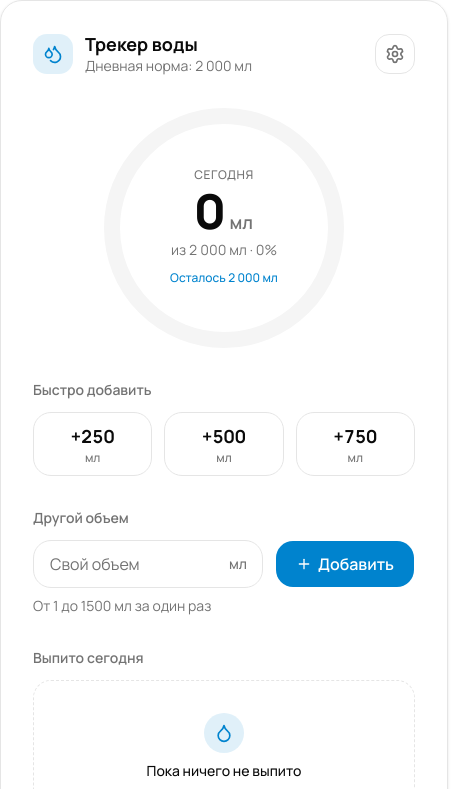
Test: WaterTracker: ошибка сервера › показывает сообщение об ошибке и разрешает повторную попытку
The width and height of the screenshot is (465, 789).
In the field with placeholder "Свой объем": (148,564) x1=33 y1=540 x2=263 y2=588, type "250"
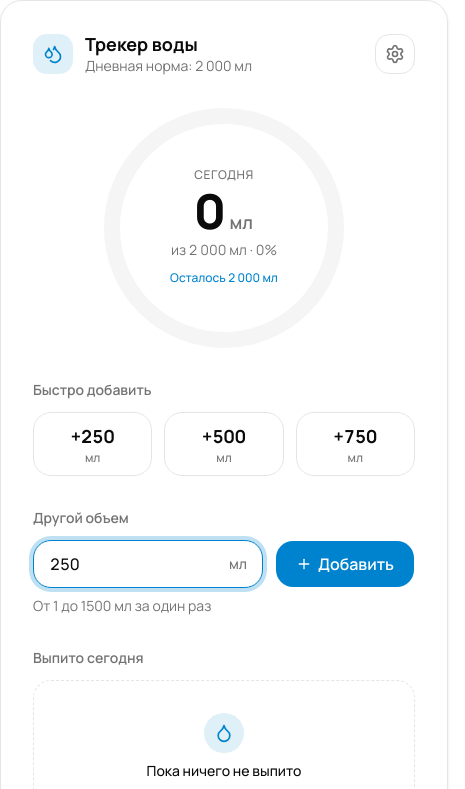
Click the button "Добавить": (345,564) x1=275 y1=540 x2=415 y2=588
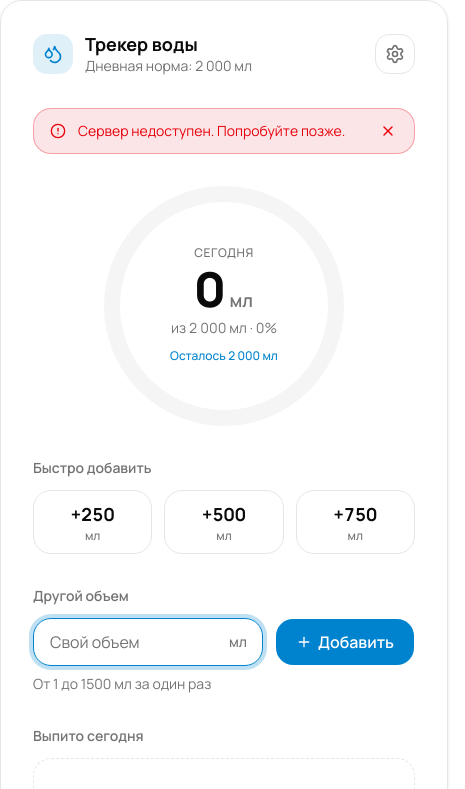
Expected: the button "Добавить" is enabled, x1=275 y1=618 x2=415 y2=666
Expected: the message reads "Сервер недоступен. Попробуйте позже.", x1=78 y1=120 x2=345 y2=140
In the field with placeholder "Свой объем": (148,642) x1=33 y1=618 x2=263 y2=666, type "250"
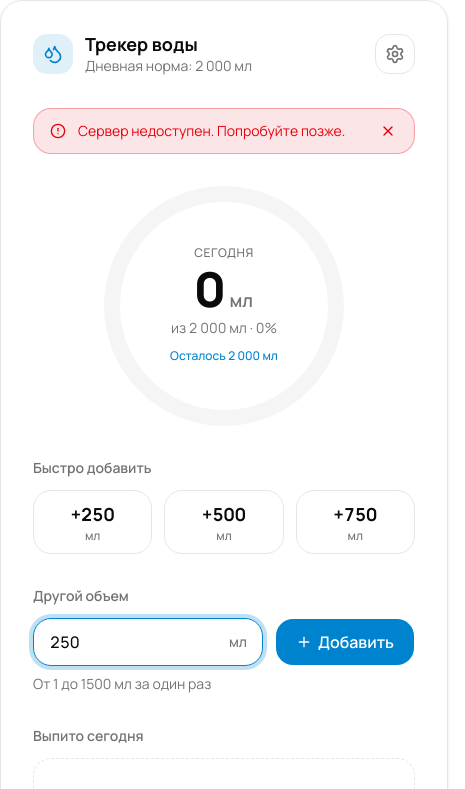
Click the button "Добавить": (345,642) x1=275 y1=618 x2=415 y2=666
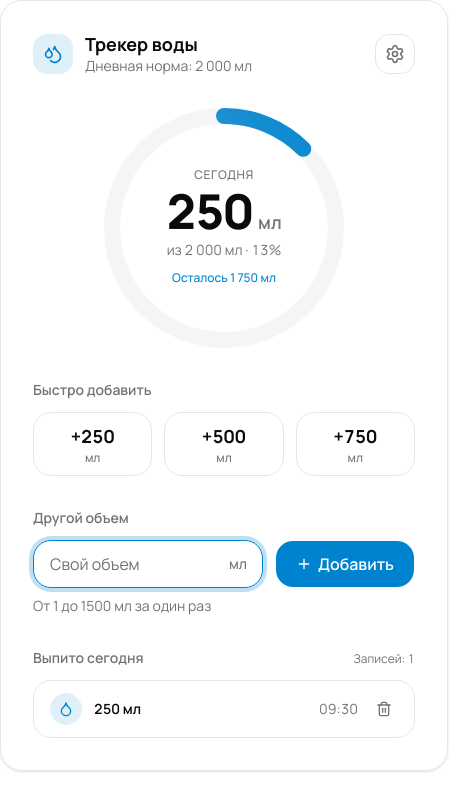
Expected: the text "250 мл" is shown, x1=94 y1=698 x2=141 y2=718
